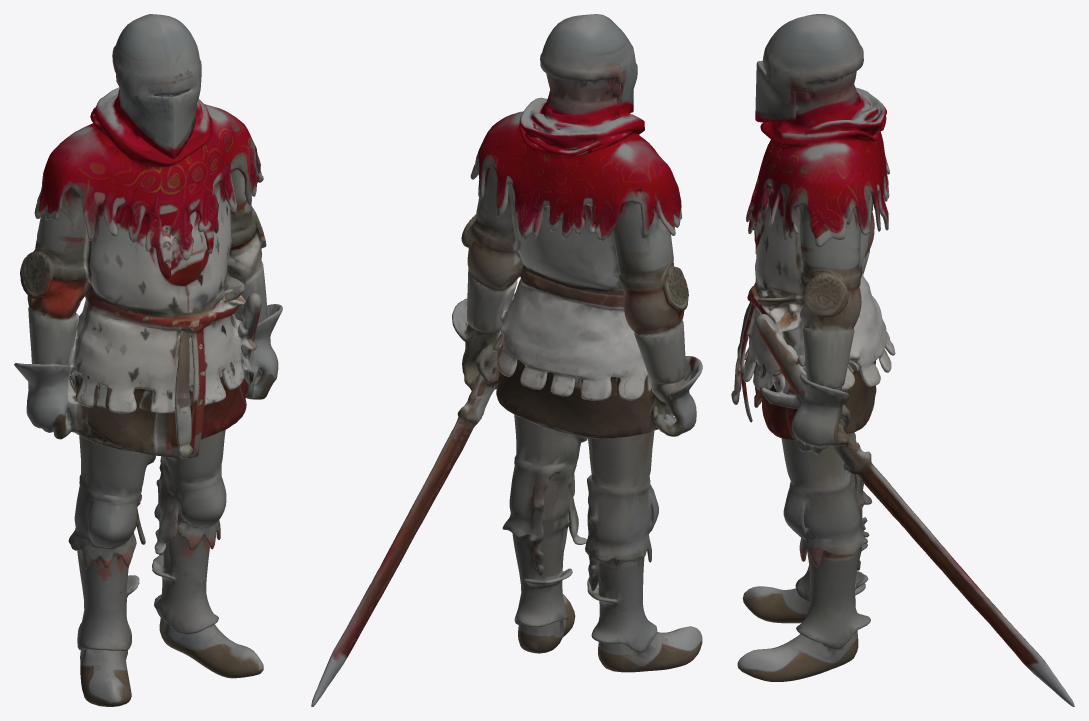
Rendered from tripo_convert_88aed698-b1fa-48d8-9df0-f4ceb4f32b5c.fbx.
The picture shows the model from 3 angles, left to right: view 1: azimuth 30°, elevation 25°; view 2: azimuth 150°, elevation 25°; view 3: azimuth 270°, elevation 25°; orthographic projection. The views are drawn at different scales.
Visible parts, largest first — view 1: tripo_node_88aed698; view 2: tripo_node_88aed698; view 3: tripo_node_88aed698.
Part boxes in pixels (x1=…): tripo_node_88aed698: x1=14, y1=14, x2=282, y2=706; tripo_node_88aed698: x1=311, y1=14, x2=702, y2=706; tripo_node_88aed698: x1=731, y1=14, x2=1074, y2=706.
Bounding box in the file's own units: 44.1 × 49.18 × 100.
1 material, 1 textured.
